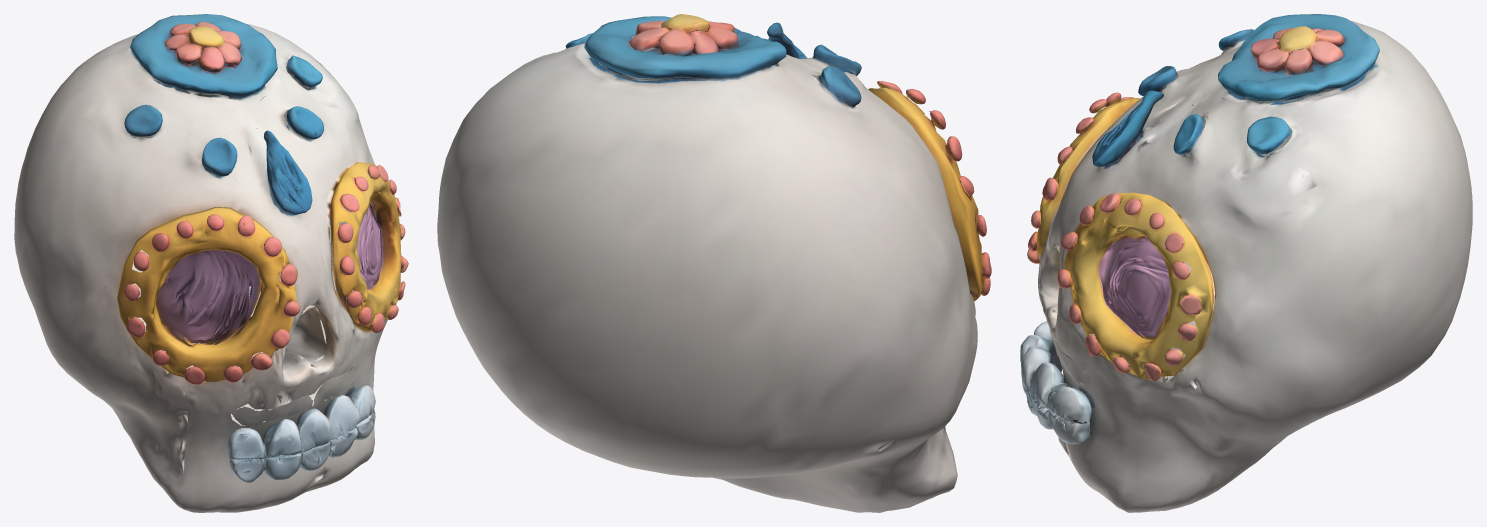
Rendered from Stack 5B - Candy Skul.glb.
The picture shows the model from 3 angles, left to right: view 1: azimuth 30°, elevation 25°; view 2: azimuth 150°, elevation 25°; view 3: azimuth 270°, elevation 25°; orthographic projection. The views are drawn at different scales.
Visible parts, largest first — view 1: Stack 5B - Candy Skul · mesh; view 2: Stack 5B - Candy Skul · mesh; view 3: Stack 5B - Candy Skul · mesh.
Part boxes in pixels (left/top/right/bottom): Stack 5B - Candy Skul · mesh: left=14, top=14, right=408, bottom=512; Stack 5B - Candy Skul · mesh: left=437, top=14, right=991, bottom=512; Stack 5B - Candy Skul · mesh: left=1020, top=14, right=1472, bottom=512.
Bounding box in the file's own units: 0.8853 × 1 × 0.9224.
1 material, 1 textured.
